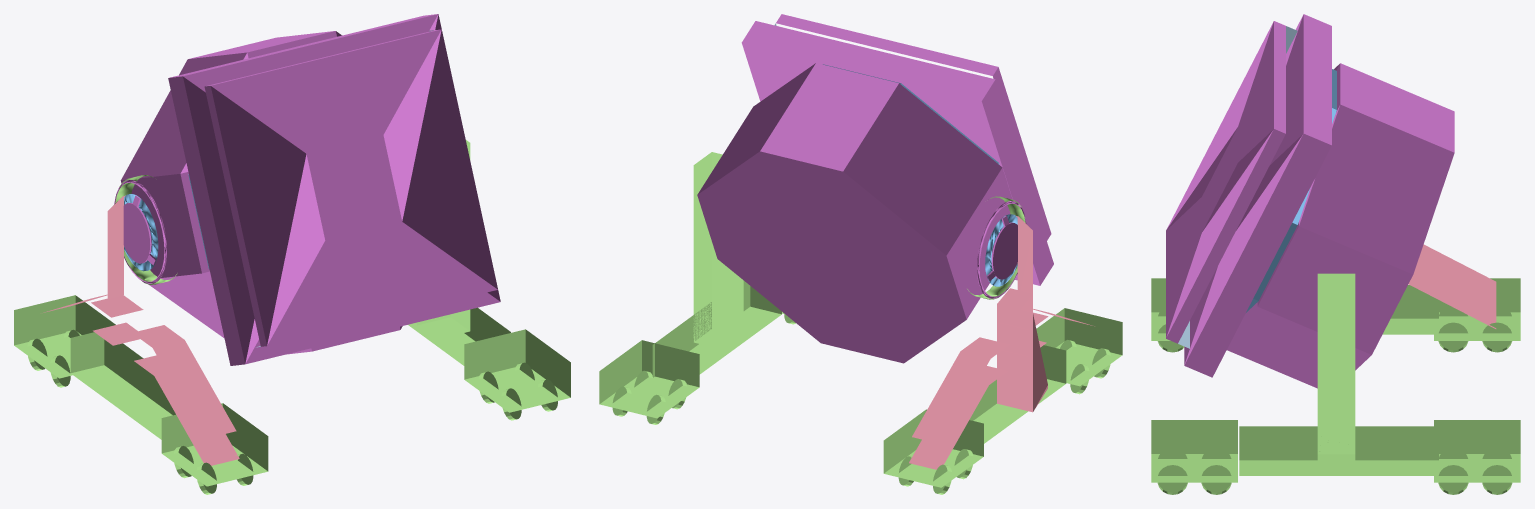
Rendered from tech_radio_telescope_a.glb.
The picture shows the model from 3 angles, left to right: view 1: azimuth 30°, elevation 25°; view 2: azimuth 150°, elevation 25°; view 3: azimuth 270°, elevation 25°; orthographic projection. The views are drawn at different scales.
Bounding box in the file's own units: 16.46 × 15.1 × 14.82.
